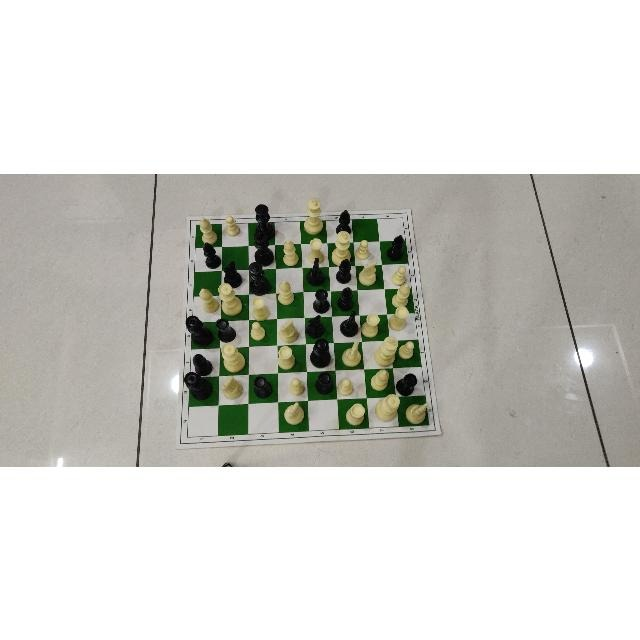black-bishop: (191, 351, 213, 374), (203, 241, 221, 268), (387, 233, 404, 260), (335, 258, 352, 284), (336, 208, 352, 235), (336, 286, 353, 311)
black-king: (248, 260, 270, 294), (254, 203, 274, 239), (255, 228, 273, 266)
black-knight: (221, 260, 242, 288), (308, 257, 326, 287), (305, 314, 326, 338), (340, 312, 360, 336)
black-queen: (183, 371, 213, 399), (186, 316, 214, 346), (310, 338, 334, 368)
black-rook: (395, 373, 418, 395), (312, 287, 331, 313), (216, 318, 236, 341), (253, 375, 272, 399), (316, 371, 334, 394)
white-bishop: (197, 286, 221, 315), (198, 216, 218, 245), (277, 279, 297, 306), (280, 238, 299, 266), (391, 282, 409, 308), (370, 369, 390, 392)
white-king: (373, 337, 400, 365), (303, 198, 324, 233), (331, 230, 351, 266)
white-knight: (339, 340, 365, 367), (403, 399, 429, 424), (355, 261, 380, 287), (281, 402, 306, 427), (221, 375, 245, 401), (278, 317, 300, 343)
white-pawn: (355, 238, 373, 262), (397, 340, 417, 360), (249, 320, 267, 342), (336, 377, 356, 396), (224, 214, 242, 235), (287, 376, 306, 395), (391, 264, 409, 284)
white-queen: (218, 282, 243, 314), (373, 393, 400, 421), (220, 343, 245, 372)
white-rook: (249, 296, 270, 320), (361, 312, 381, 337), (306, 237, 325, 263), (278, 345, 296, 372), (389, 305, 407, 330), (346, 402, 364, 426)
